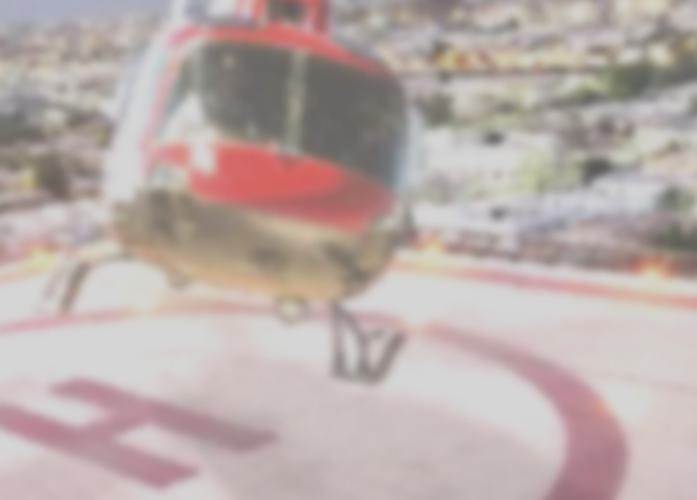Apron: (4, 299, 637, 500)
